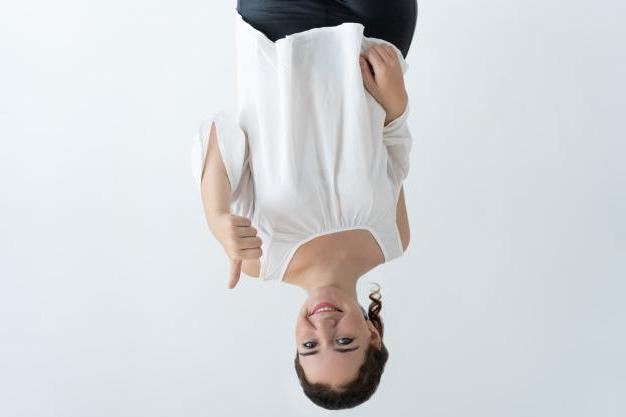thumbsdown: (227, 215, 263, 290)
